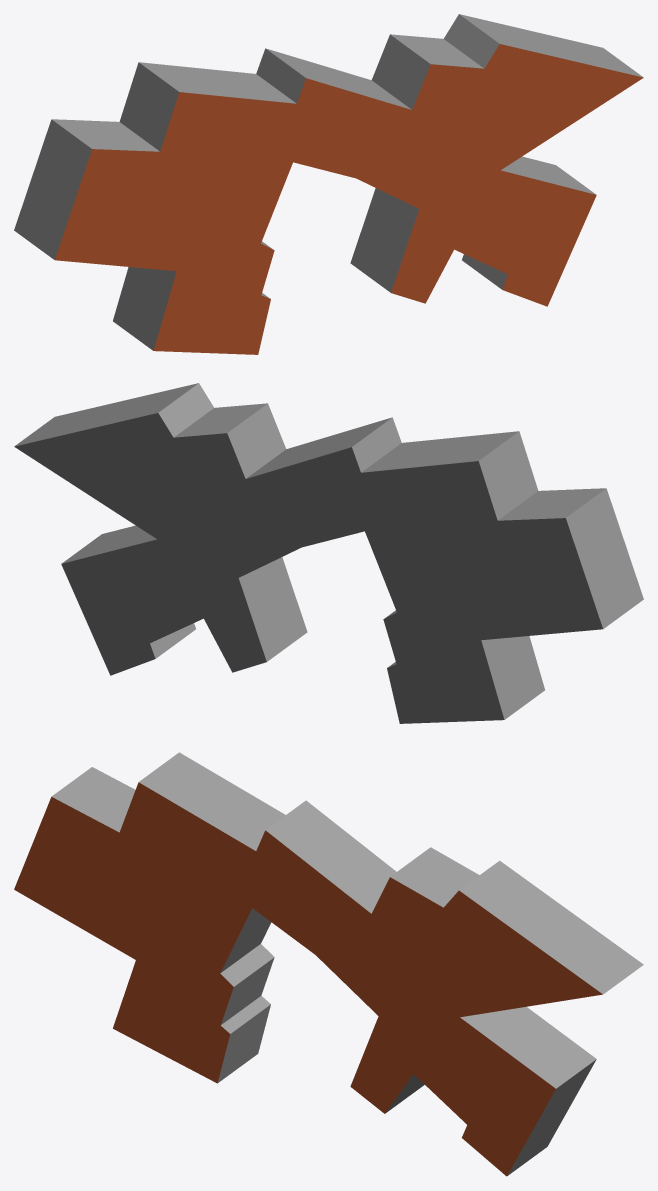
File: construction_4733_assumed_A_Casa_h6m.obj
3 views of the same model, one above another, from view 1: azimuth 30°, elevation 25°; view 2: azimuth 150°, elevation 25°; view 3: azimuth 330°, elevation 25° (orthographic).
Parts seen in each view (by area): view 1: construction_4733_assumed_A_Casa; view 2: construction_4733_assumed_A_Casa; view 3: construction_4733_assumed_A_Casa.
Boxes of the visible parts, x1,y1,x2,y2 form: construction_4733_assumed_A_Casa: [14, 14, 643, 354]; construction_4733_assumed_A_Casa: [14, 383, 643, 723]; construction_4733_assumed_A_Casa: [14, 752, 643, 1176].
Size of the model in its own units: 50.08 by 24.74 by 6.
